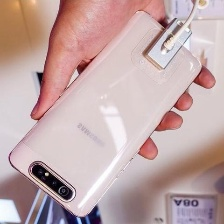phone: (5, 7, 205, 221)
